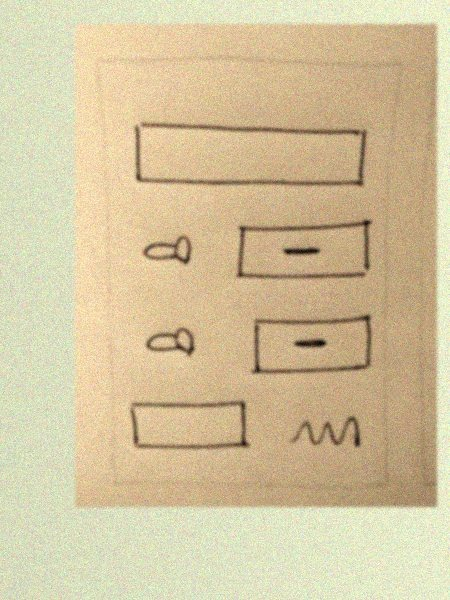button: (228, 218, 376, 285), (244, 314, 376, 380)
switch: (135, 228, 198, 271), (142, 322, 201, 363)
text: (280, 411, 366, 459)
text_input: (126, 114, 371, 193), (124, 398, 255, 453)
